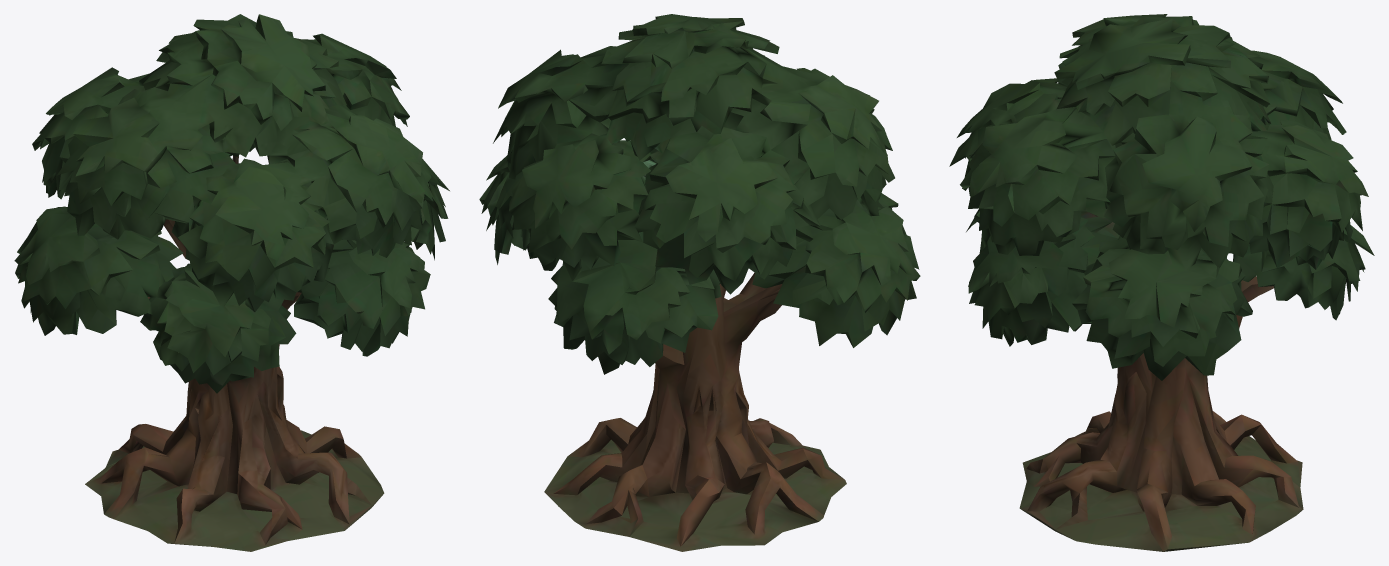
The model's file is tree_oak_idle.glb.
The picture shows the model from 3 angles, left to right: view 1: azimuth 30°, elevation 25°; view 2: azimuth 150°, elevation 25°; view 3: azimuth 270°, elevation 25°; orthographic projection.
Parts seen in each view (by area): view 1: tripo_node_c9a0c7f0-d6a5-4b86-ab93-a9fac228debc; view 2: tripo_node_c9a0c7f0-d6a5-4b86-ab93-a9fac228debc; view 3: tripo_node_c9a0c7f0-d6a5-4b86-ab93-a9fac228debc.
Part boxes in pixels (x1,y1,x2,y2): tripo_node_c9a0c7f0-d6a5-4b86-ab93-a9fac228debc: [14, 14, 449, 551]; tripo_node_c9a0c7f0-d6a5-4b86-ab93-a9fac228debc: [479, 14, 920, 551]; tripo_node_c9a0c7f0-d6a5-4b86-ab93-a9fac228debc: [949, 14, 1374, 551].
Size of the model in its own units: 5.18 by 5.49 by 4.54.
1 material, 1 textured.
